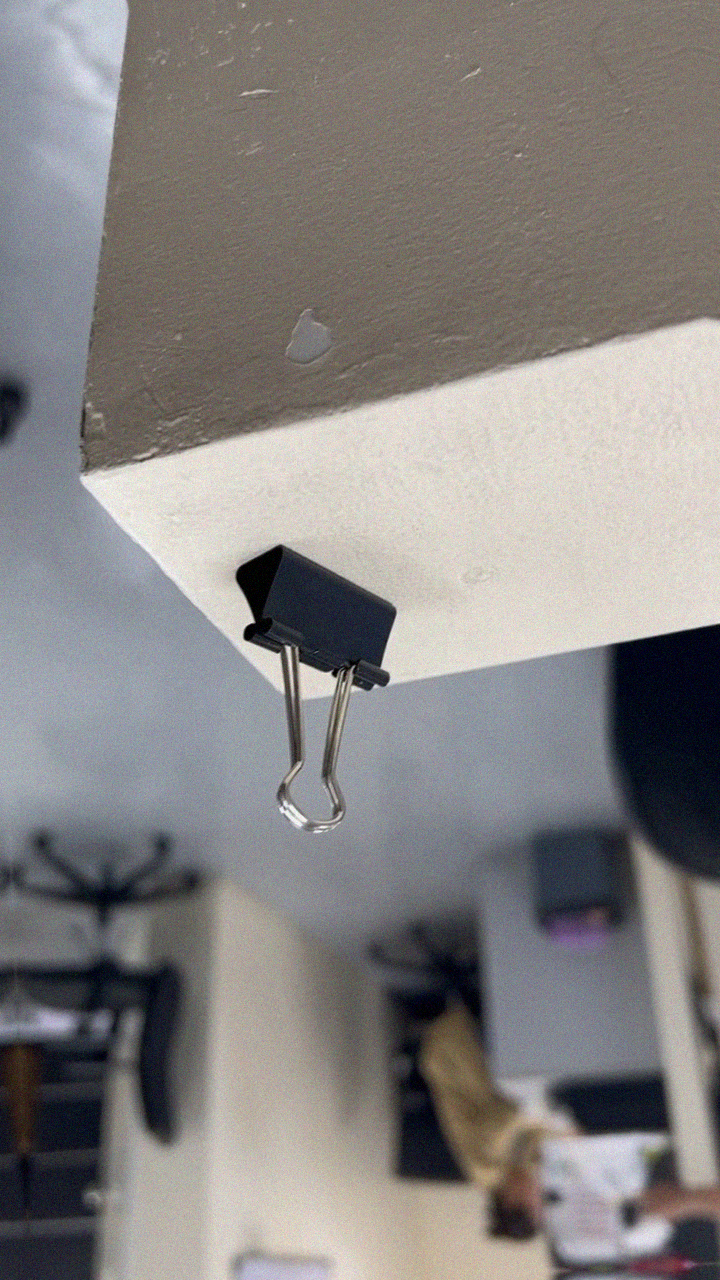kep_giay: (229, 535, 411, 839)
